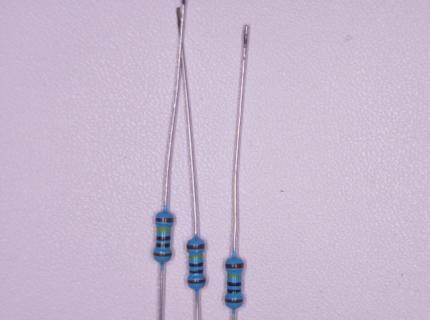Black band: (189, 262, 204, 267), (227, 282, 241, 287), (157, 236, 170, 241), (157, 243, 169, 248), (189, 270, 203, 274), (228, 289, 241, 293)
Brown band: (188, 244, 205, 250), (156, 218, 174, 222), (226, 264, 244, 268), (188, 279, 206, 283), (225, 299, 243, 303), (154, 253, 171, 256)
Yellow band: (227, 274, 242, 278), (157, 228, 171, 232), (190, 255, 203, 259)
